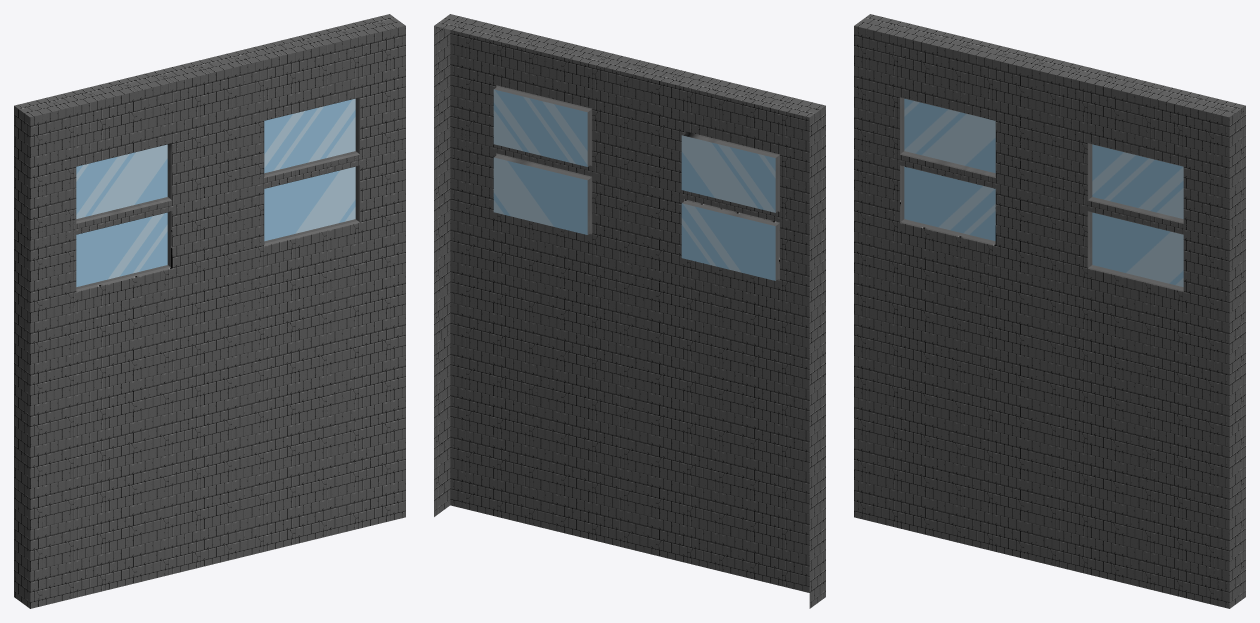
File: Wall.fbx
3 renders of one model, left to right at view 1: azimuth 30°, elevation 25°; view 2: azimuth 150°, elevation 25°; view 3: azimuth 330°, elevation 25°, orthographic.
Visible parts, largest first — view 1: WALL, GlassWindow; view 2: WALL, GlassWindow; view 3: WALL, GlassWindow.
Part boxes in pixels (x1,y1,x2,y2): WALL: (14,14,405,608); GlassWindow: (76,98,355,286); WALL: (434,14,825,608); GlassWindow: (493,89,775,280); WALL: (854,14,1245,608); GlassWindow: (904,98,1183,286).
Size of the model in its own units: 800 by 1000 by 60.
Materials: 2 (2 with a texture image).
